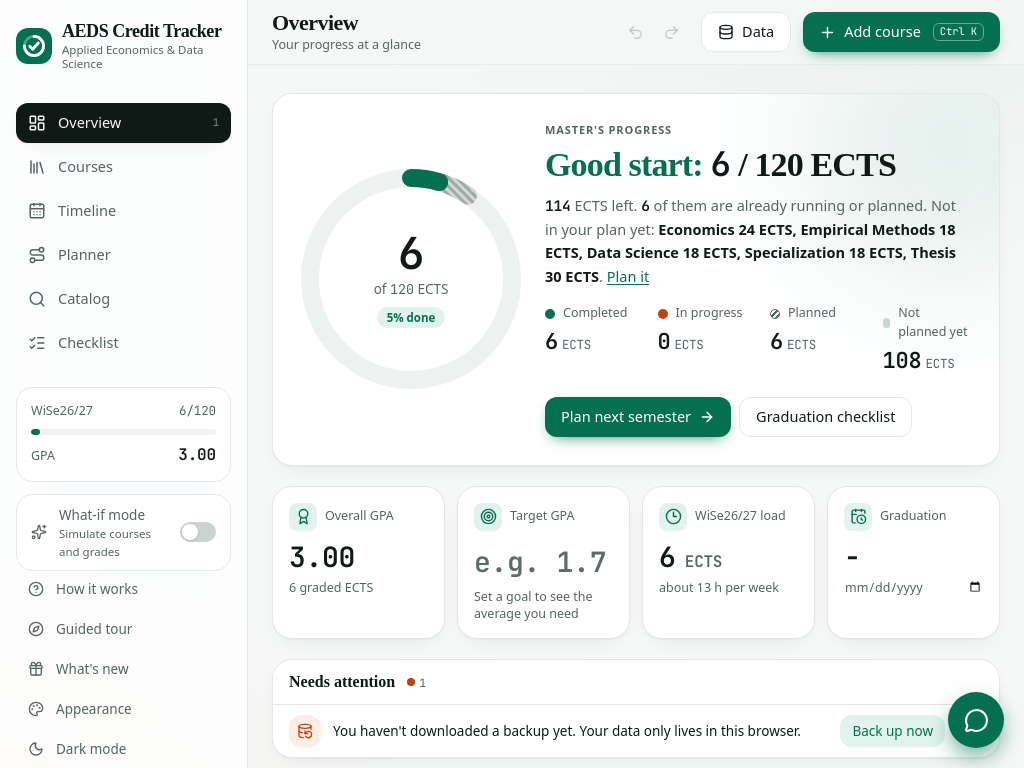
Test case: AEDS Assistant › clears the conversation after confirming
Click the button named "Open AEDS AI Assistant chat". click: (976, 720)
box: [948,692,1004,748]
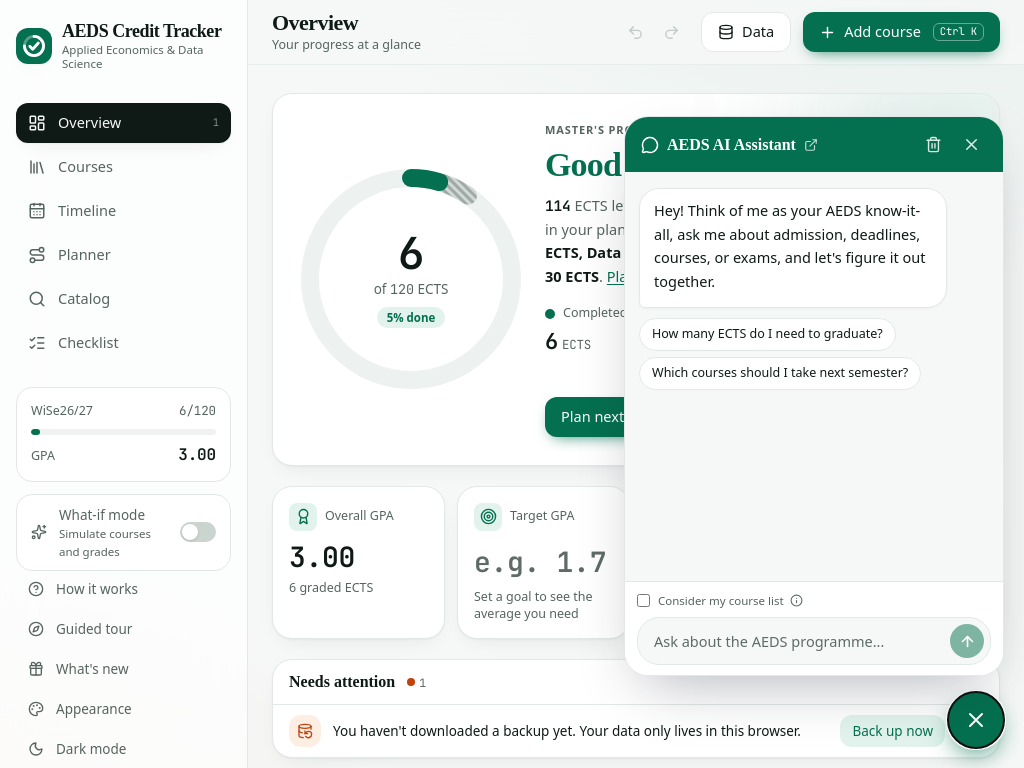
Type "Hi" into the text box with placeholder "Ask about the AEDS programme...". click: (799, 642)
box: [654,626,944,658]
Then press Enter
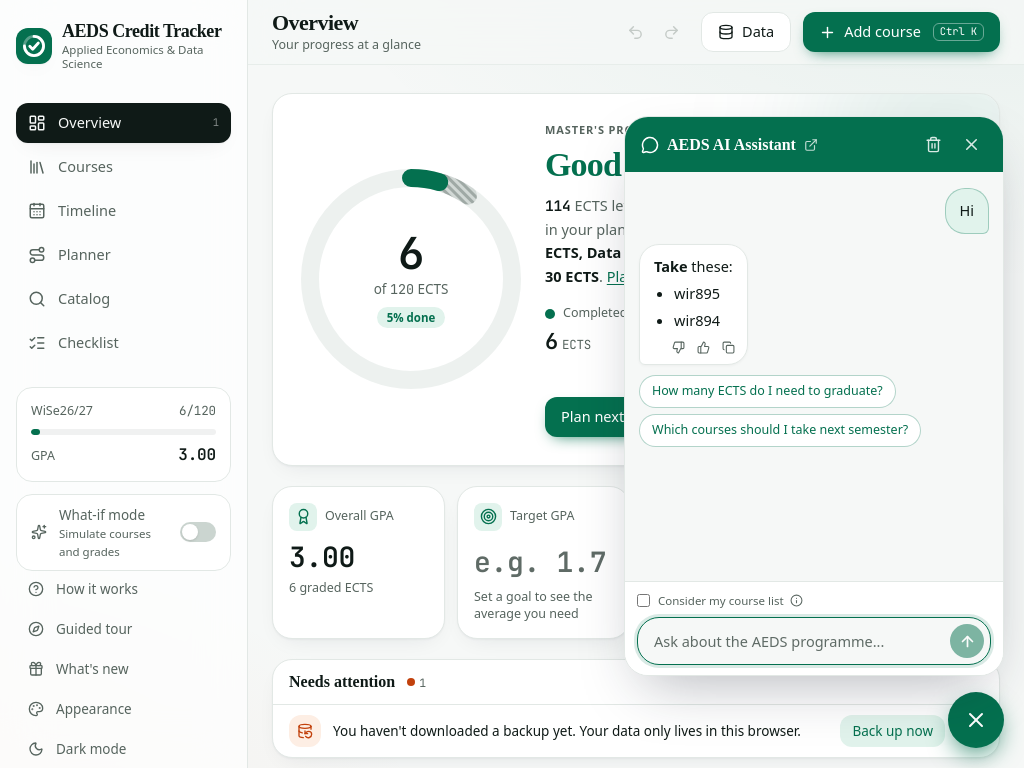
Result: the button named "Good answer" is shown at [691,335,716,360]
Click the button named "Clear chat history". click: (934, 144)
box: [919,130,948,159]
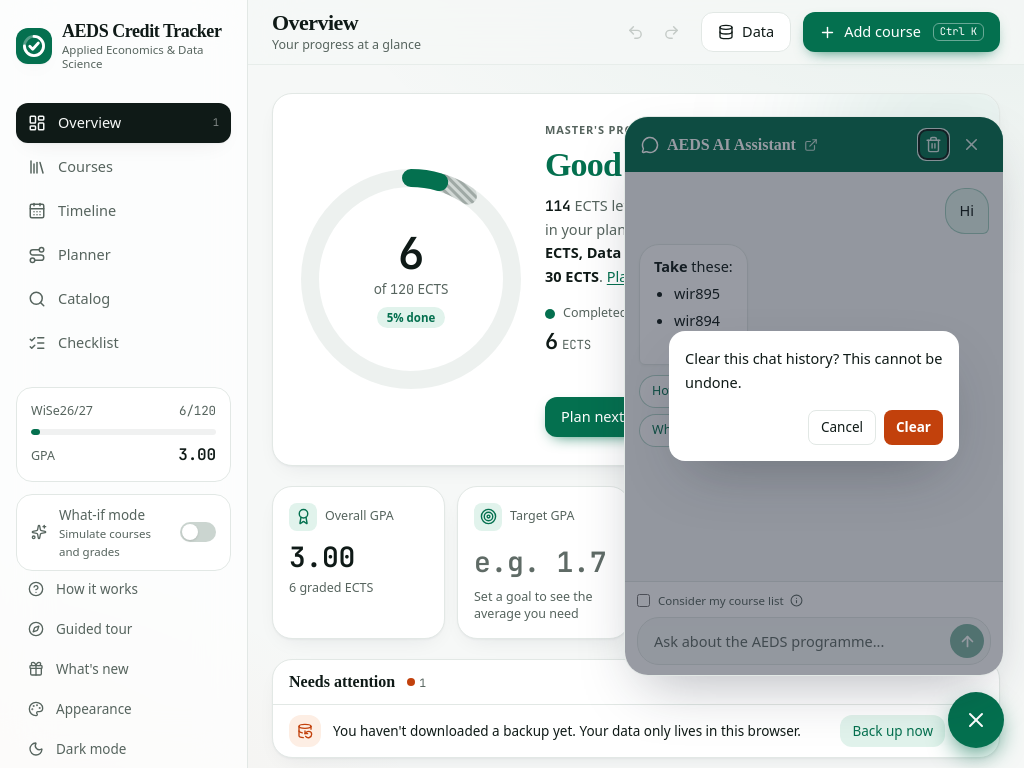
Click the button "Clear". click: (914, 428)
box: [884,410,943,445]
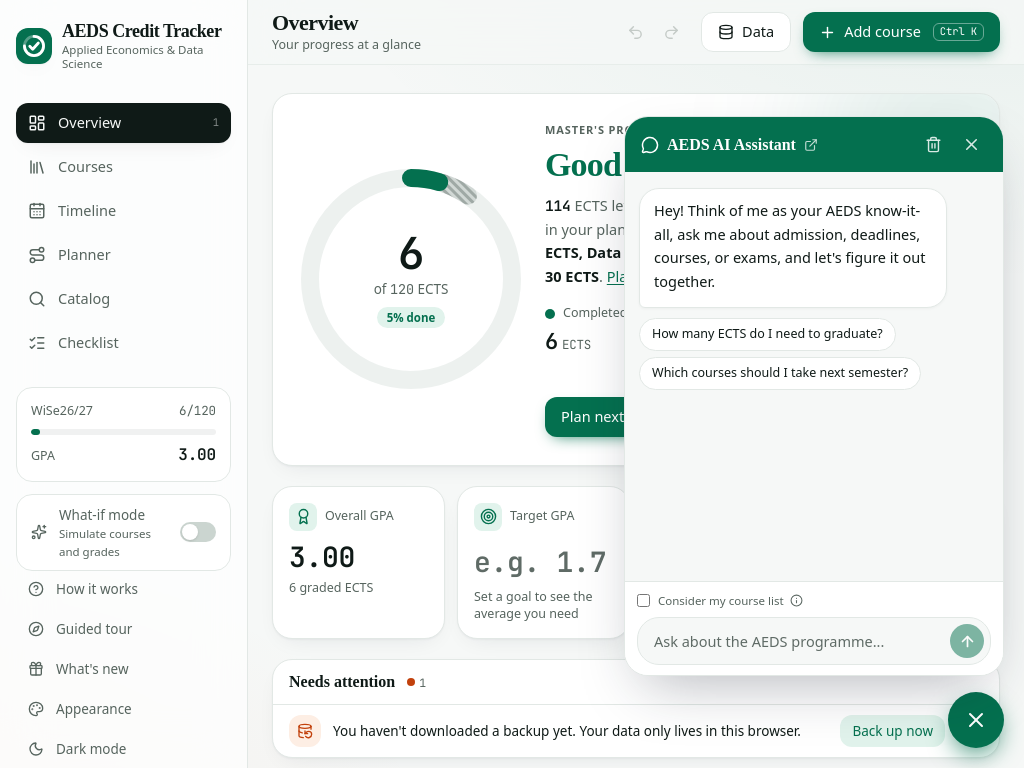
Result: the text "AEDS know-it-all" is shown at [654,200,926,291]
